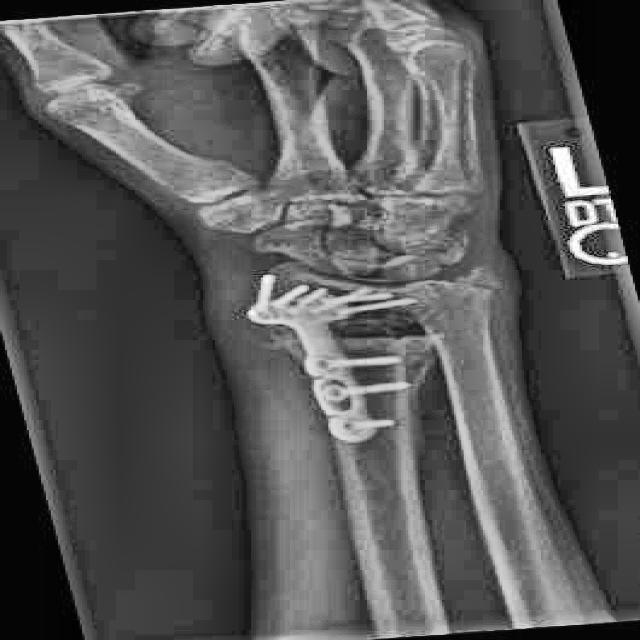wrist positive: (252, 304, 466, 372), (439, 253, 527, 309)
